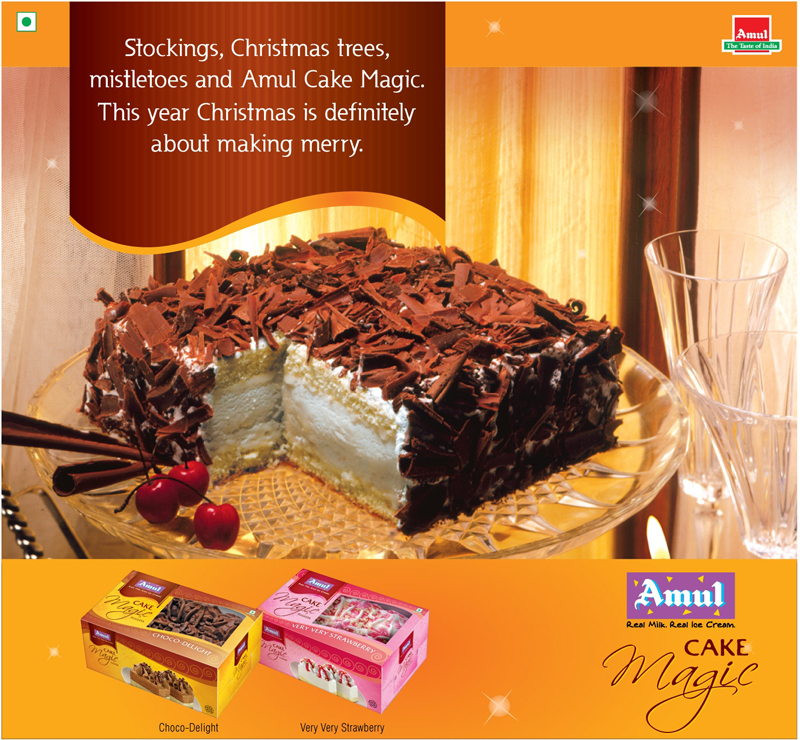Amul: (631, 575, 728, 611)
